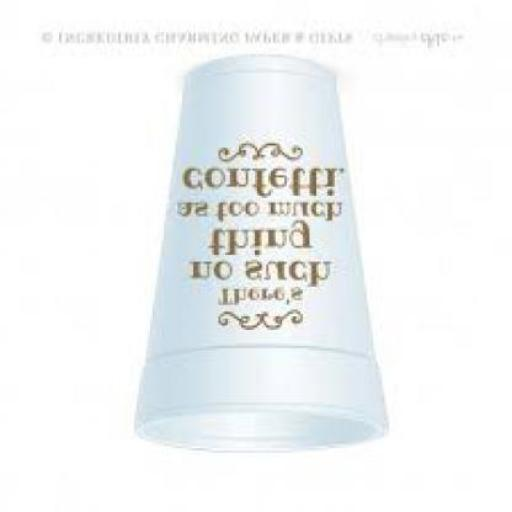paper: (132, 59, 382, 458)
